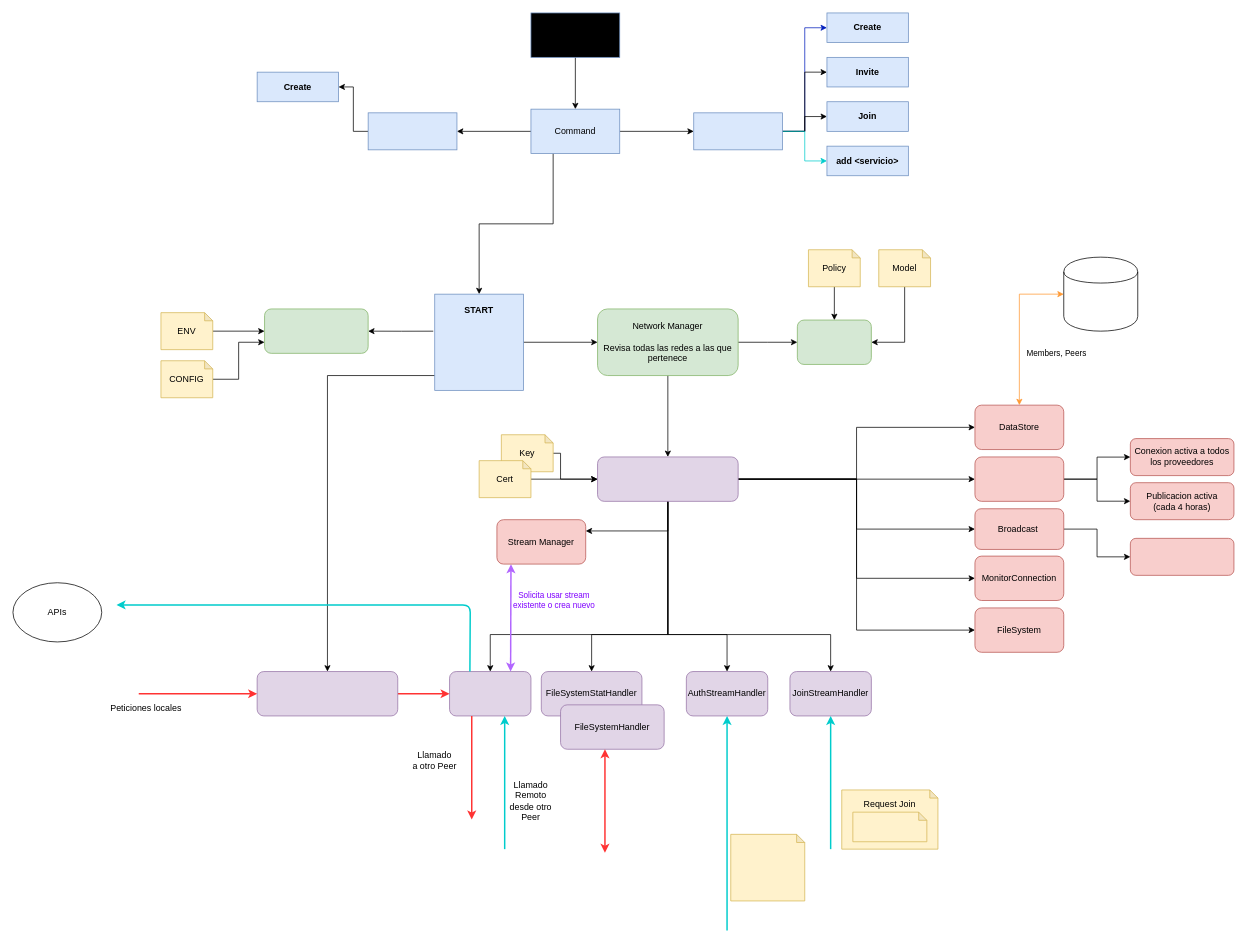
Some shapes in this 1247 by 950 pixel diagram are drawn without their labels. Here are the shapes that lost their labels. From the top down, the centre of each, then its label:
point (575, 34): MAIN
point (412, 131): ENTITY
point (738, 131): NETWORK
point (1100, 293): Pebble
point (316, 330): Configuration Manager
point (834, 341): RBAC
point (667, 478): Network (Connect)
point (1019, 478): DHT
point (1182, 556): Listener Peers
point (327, 693): Local Server
point (490, 693): APIProxyHandler
point (889, 826): Invitation.vni
point (767, 867): Request Peer + Entidad (Firmado)
